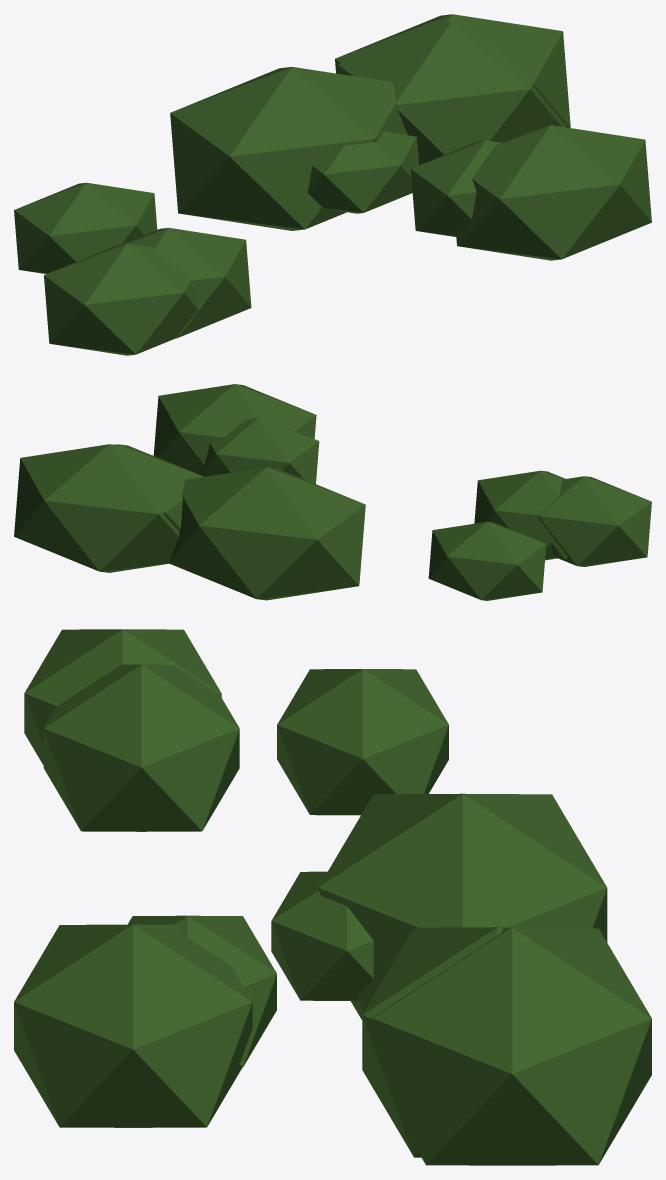
File: tf_seep_growth.glb
3 renders of one model, top to bottom at view 1: azimuth 30°, elevation 25°; view 2: azimuth 150°, elevation 25°; view 3: azimuth 270°, elevation 25°, orthographic. The views are drawn at different scales.
Parts seen in each view (by area): view 1: tf_seep_growth; view 2: tf_seep_growth; view 3: tf_seep_growth.
Part boxes in pixels (x1,y1,x2,y2): tf_seep_growth: [14, 14, 651, 355]; tf_seep_growth: [14, 384, 651, 600]; tf_seep_growth: [14, 629, 651, 1165].
Size of the model in its own units: 6.55 by 1.6 by 3.75.
